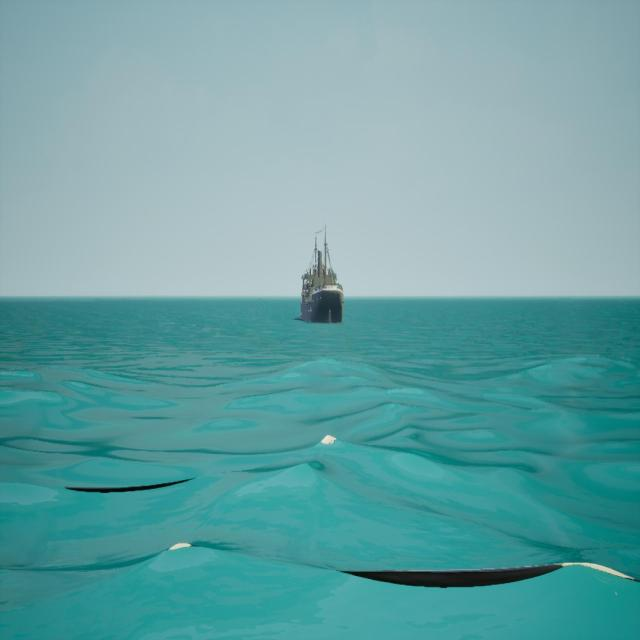fishing ship: (299, 223, 344, 325)
